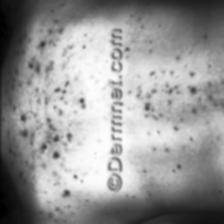Non-Cancerous Skin Condition: (7, 4, 92, 212), (129, 20, 224, 193)
